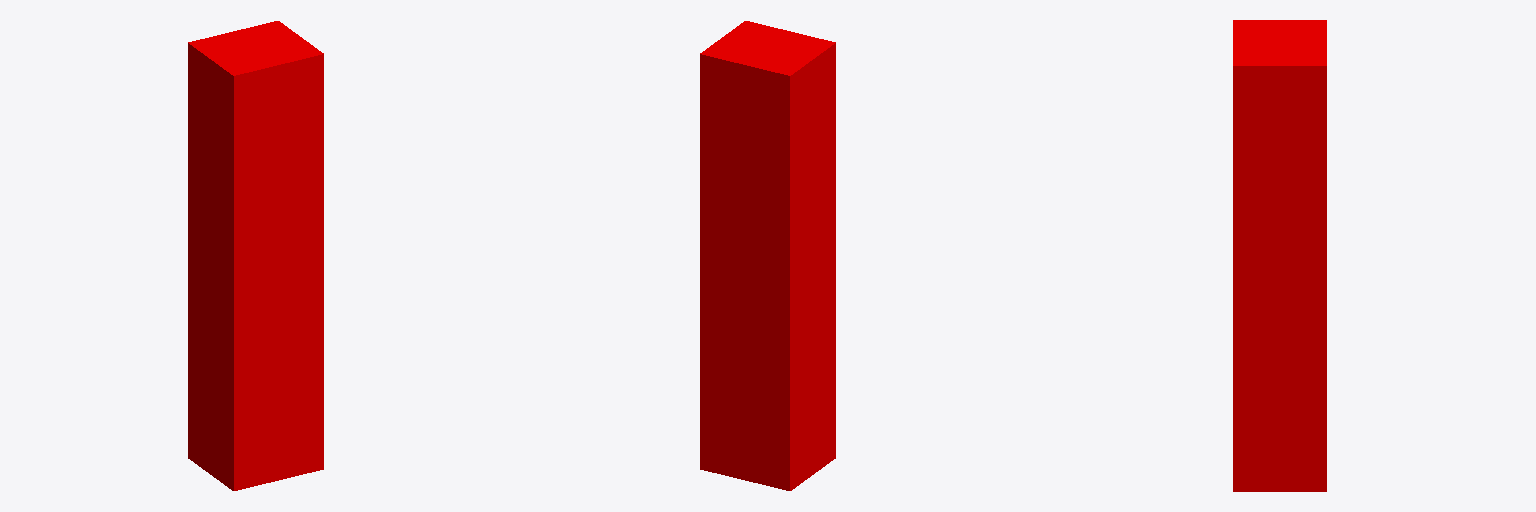
The robot description file, URDF, robot "stick":
<?xml version="1.0" ?>
<robot name="stick">
  <link name="baseLink">
    <contact>
      <lateral_friction value="1.0"/>
      <rolling_friction value="1.0"/>
      <spinning_friction value="1.0"/>
      <!--contact_cfm value="0.0"/-->
      <!--contact_erp value="1.0"/-->
    </contact>
    <inertial>
      <origin rpy="0 0 0" xyz="0 0 0"/>
       <mass value="1.0"/>
       <inertia ixx="1" ixy="0" ixz="0" iyy="1" iyz="0" izz="1"/>
    </inertial>
    <visual>
      <origin rpy="0 0 0" xyz="0 0 0"/>
      <geometry>
				<box size="0.016 0.014 0.07"/>
      </geometry>
       <material name="red">
        <color rgba="1 0 0 1"/>
      </material>
    </visual>
    <collision>
      <origin rpy="0 0 0" xyz="0 0 0"/>
      <geometry>
	 	  <box size="0.016 0.014 0.07"/>
      </geometry>
    </collision>
  </link>
</robot>

--- What the picture shows (computed from the rendered views, not written in the file) ---
Views: 3 orthographic renders of the robot side by side, from view 1: azimuth 30°, elevation 25°; view 2: azimuth 150°, elevation 25°; view 3: azimuth 270°, elevation 25°.
Robot: stick — 1 links, 0 joints (none); root link baseLink; default pose: every joint at zero.
Visible links, largest first — view 1: baseLink; view 2: baseLink; view 3: baseLink.
Link boxes in pixels (<box>): baseLink: <box>188,21,323,490</box>; baseLink: <box>700,21,835,490</box>; baseLink: <box>1233,20,1326,491</box>.
Bounding box of the posed robot: 0.016 × 0.014 × 0.07 m (x, y, z).
Geometry: primitives only (box / cylinder / sphere), no mesh files.
